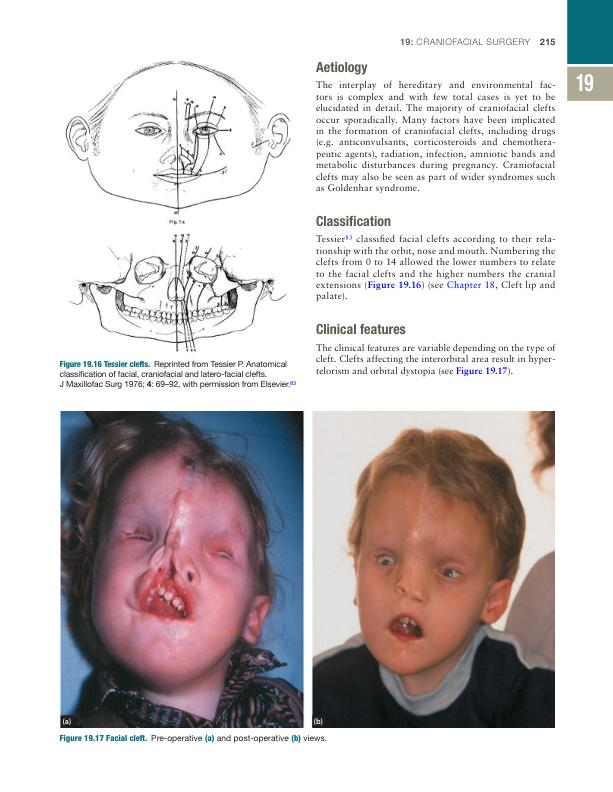caption: (57, 358, 299, 392), (58, 733, 328, 744), (62, 717, 73, 727), (313, 716, 324, 726)
header: (399, 37, 532, 47)
image: (59, 410, 304, 729), (312, 409, 556, 729), (56, 52, 302, 357)
sub-section-heading: (314, 320, 407, 336), (314, 213, 392, 228), (313, 60, 369, 76)
text: (314, 79, 557, 195), (315, 233, 557, 302), (314, 342, 558, 378)
